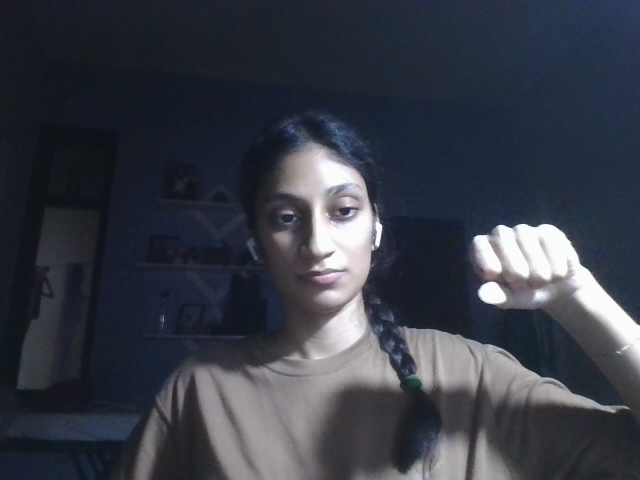yes: (472, 223, 586, 320)
